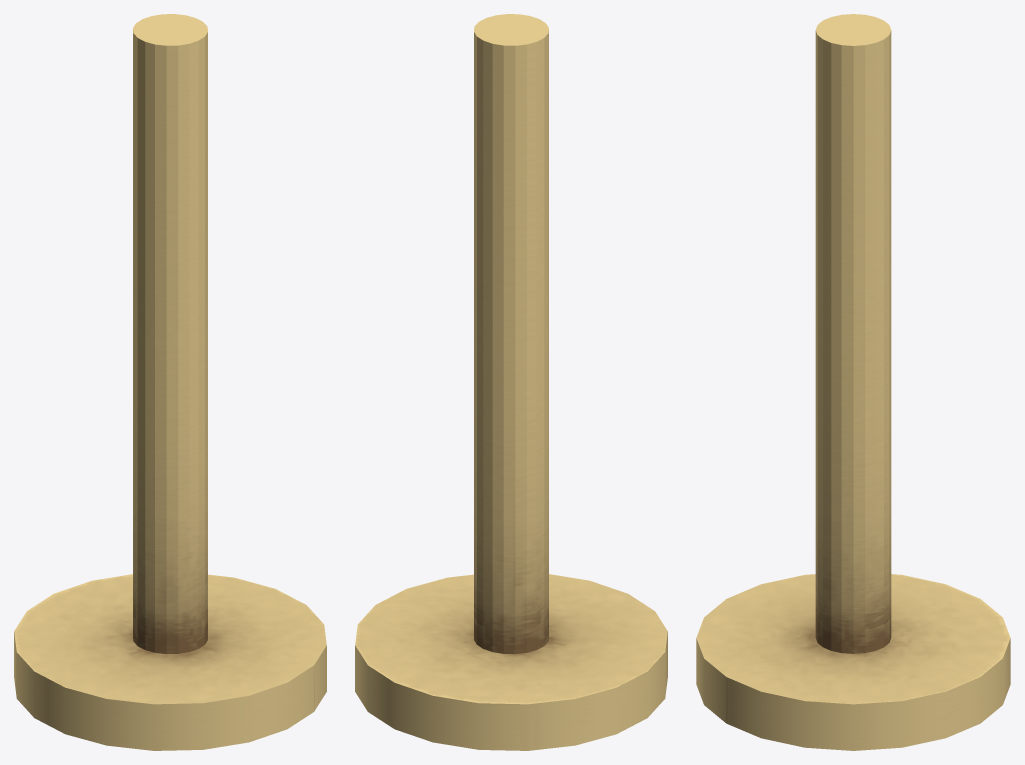
File: Obj_Porta_Papel_Toalha.fbx
The picture shows the model from 3 angles, left to right: view 1: azimuth 30°, elevation 25°; view 2: azimuth 150°, elevation 25°; view 3: azimuth 270°, elevation 25°; orthographic projection.
Visible parts, largest first — view 1: pCylinder45; view 2: pCylinder45; view 3: pCylinder45.
Boxes of the visible parts, x1=… form: pCylinder45: x1=14, y1=14, x2=326, y2=750; pCylinder45: x1=355, y1=14, x2=667, y2=750; pCylinder45: x1=696, y1=14, x2=1010, y2=750.
Bounding box in the file's own units: 0.1086 × 0.2496 × 0.1086.
1 material, 1 textured.
